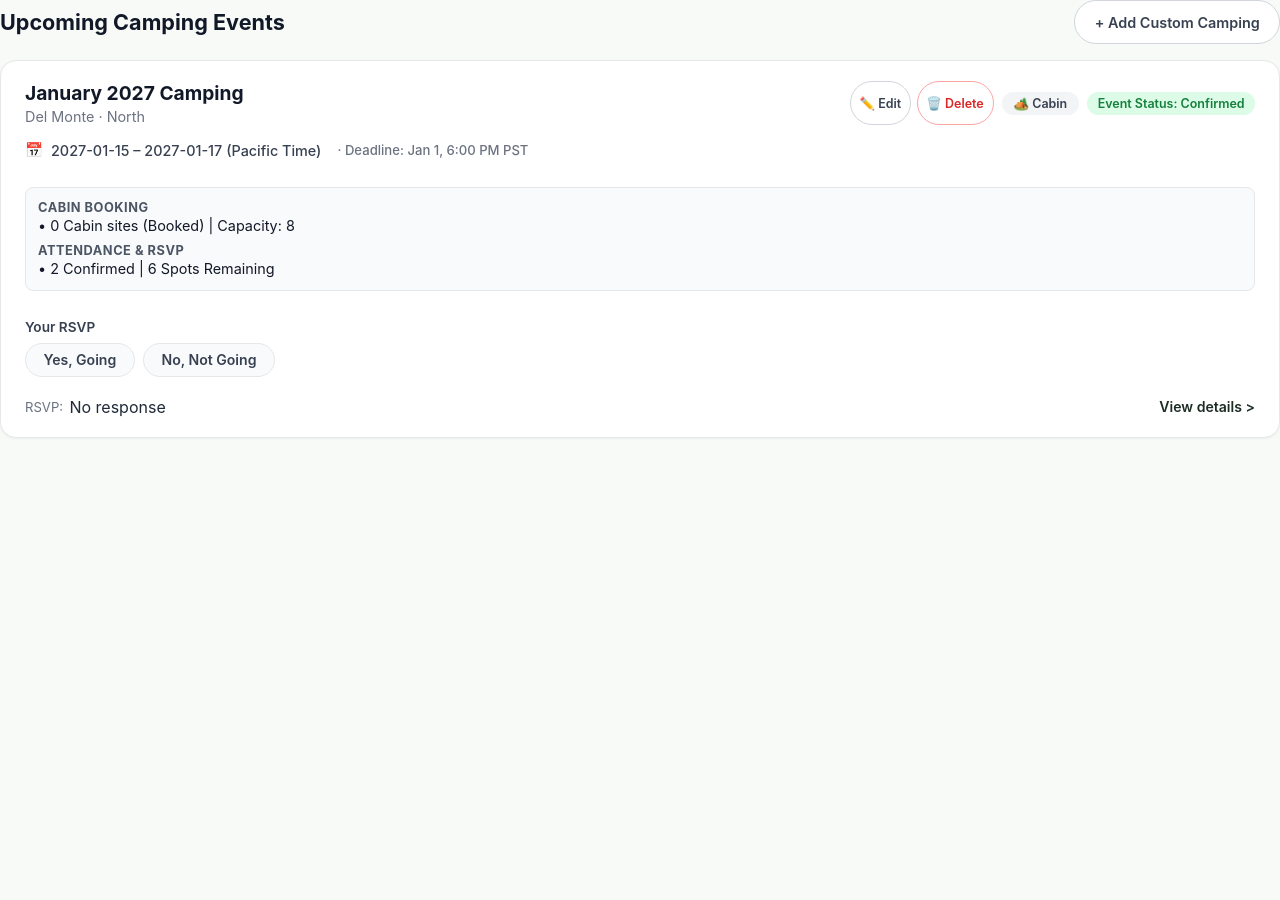
Test: TripCalendarPage › explains when another administrator changed the trip before this save
Check: the heading "January 2027 Camping" is shown, box [25,81,244,105]
Step 1. Click the button "✏️ Edit" → (880, 103), box [850,81,911,125]
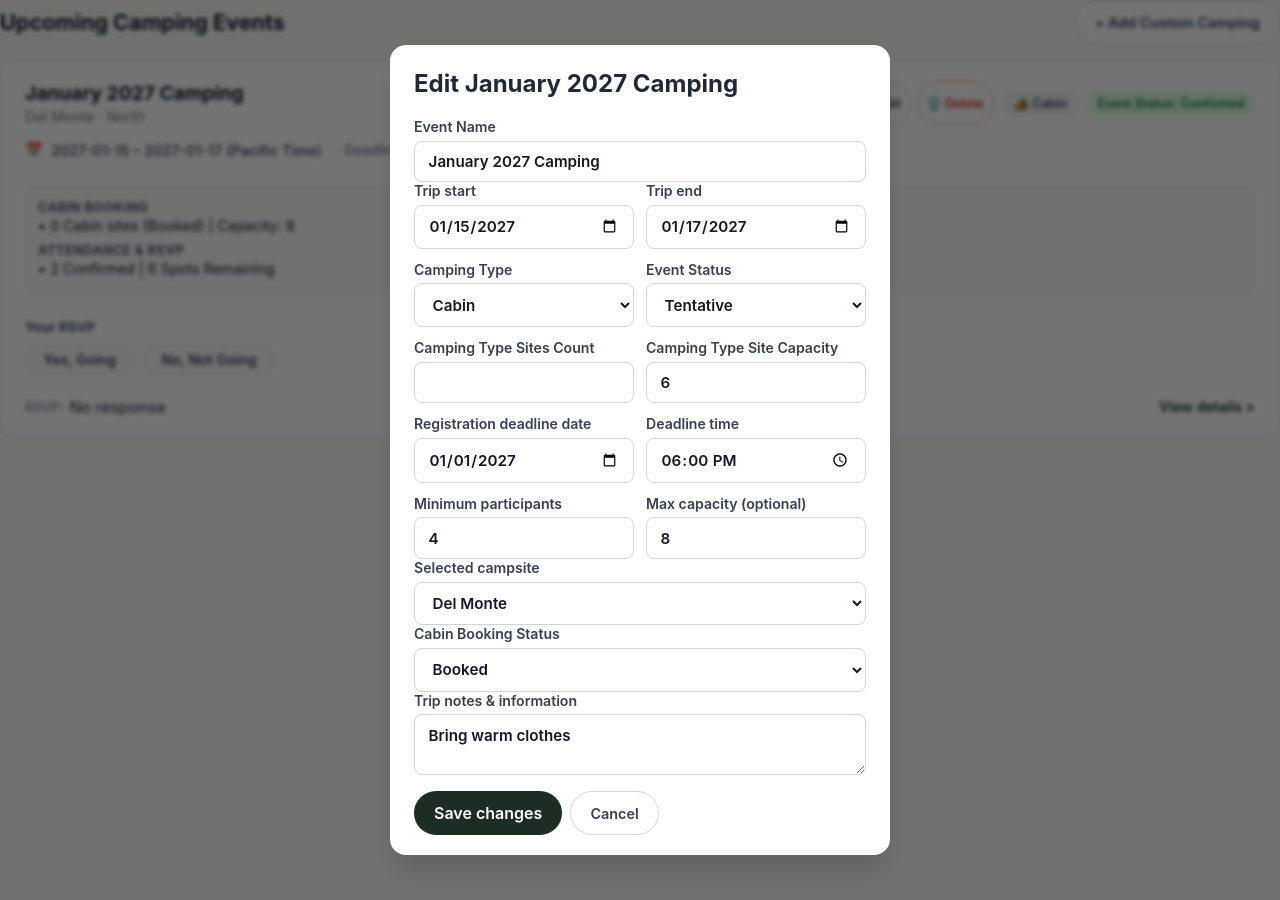
Step 2. Click the button "Save changes" → (488, 813), box [414,791,562,835]
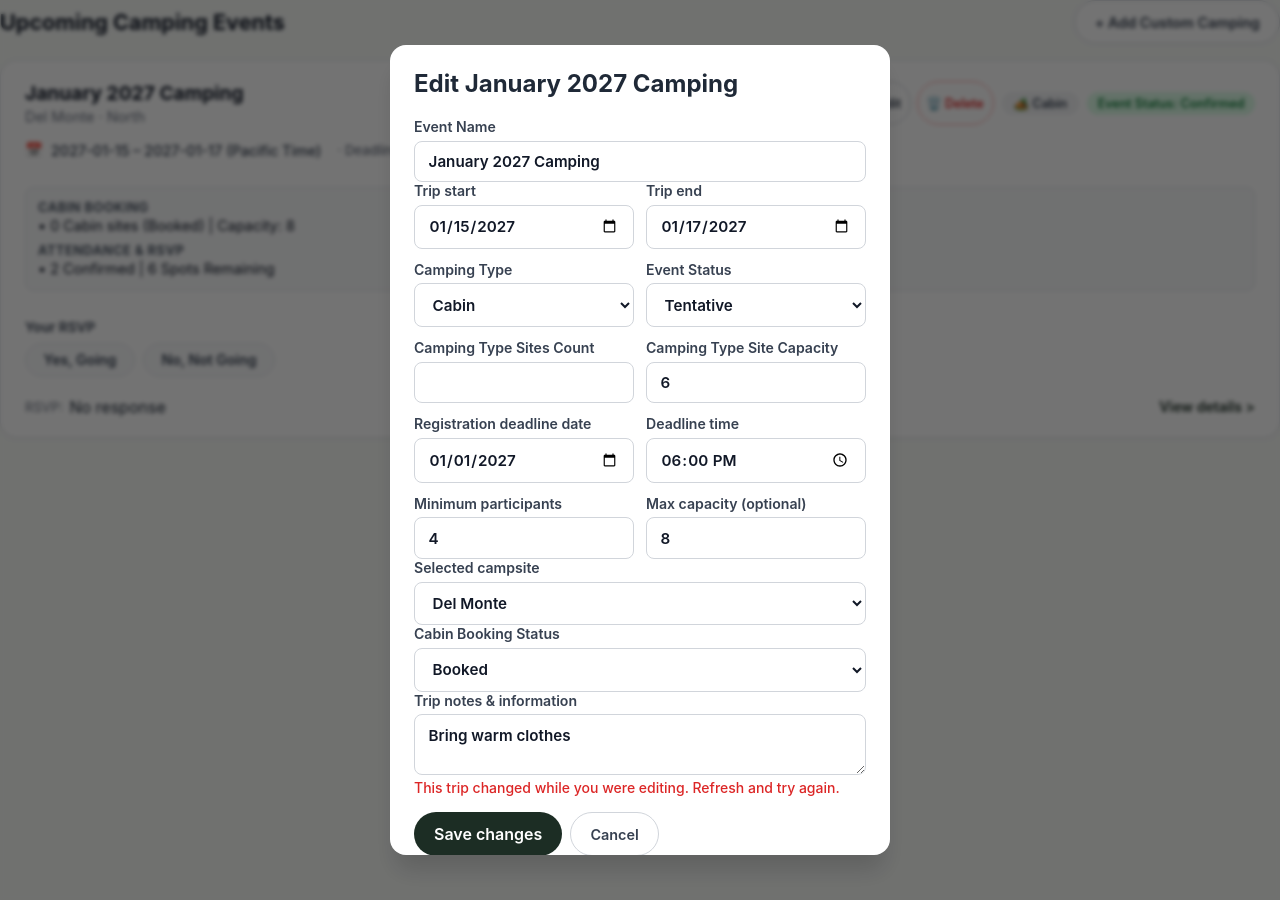
Check: the text "This trip changed while you were editing. Refresh and try again." is shown, box [414,779,866,796]
